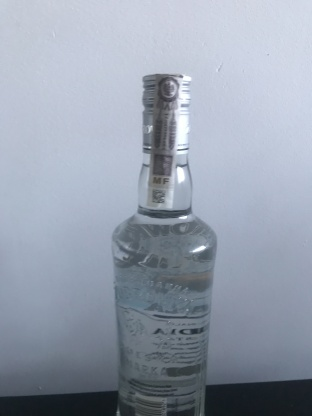nakretka: (139, 69, 193, 158), (139, 69, 193, 157)
